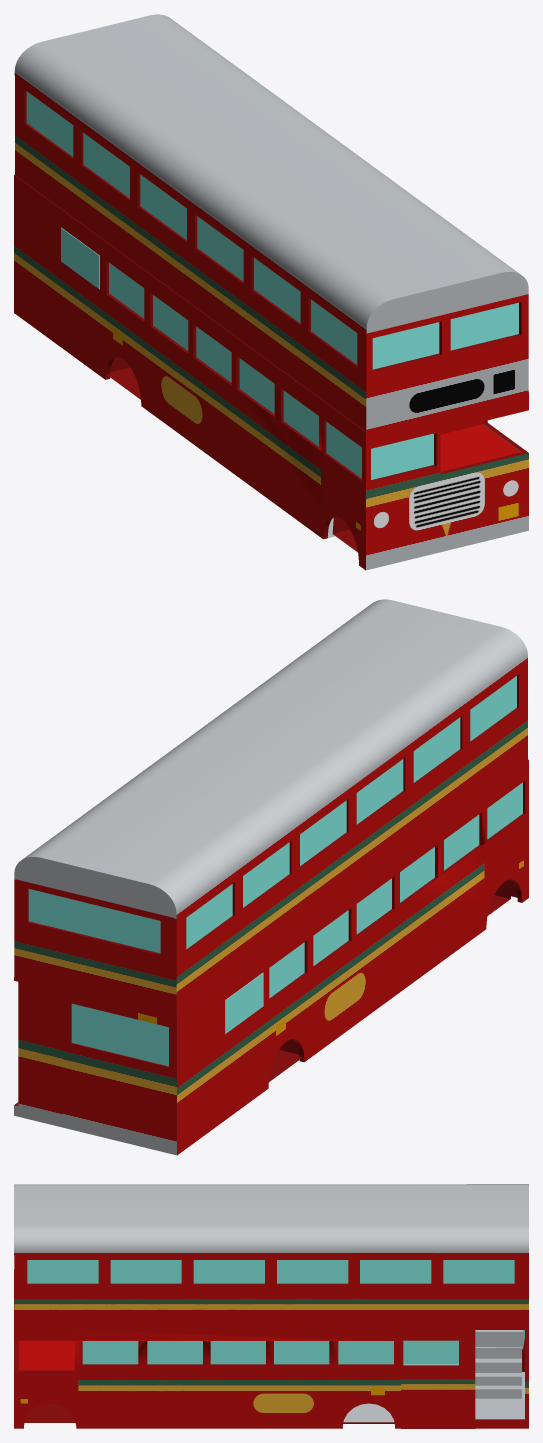
File: MumbaiDDBus.fbx
3 views of the same model, one above another, from view 1: azimuth 30°, elevation 25°; view 2: azimuth 150°, elevation 25°; view 3: azimuth 270°, elevation 25° (orthographic). The views are drawn at different scales.
Parts seen in each view (by area): view 1: MumbaiBus2; view 2: MumbaiBus2; view 3: MumbaiBus2.
Part boxes in pixels (box(x1,y1,x2,y2)): MumbaiBus2: box(14, 14, 528, 570); MumbaiBus2: box(14, 599, 528, 1155); MumbaiBus2: box(14, 1184, 528, 1428).
Size of the model in its own units: 207 by 319 by 769.
